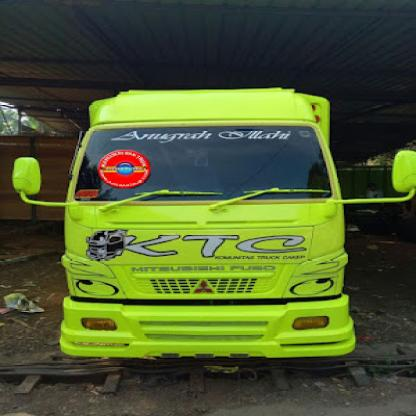truck: (15, 81, 415, 358)
